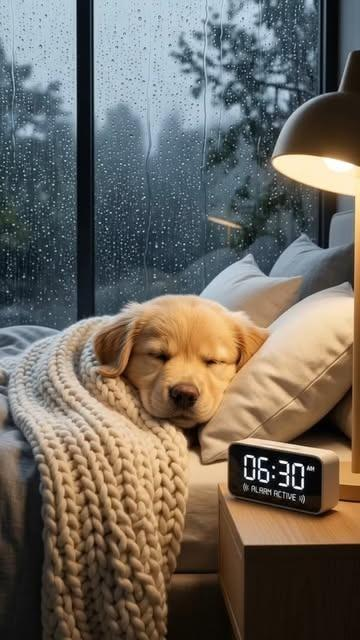puppy-dog: (87, 294, 271, 431)
